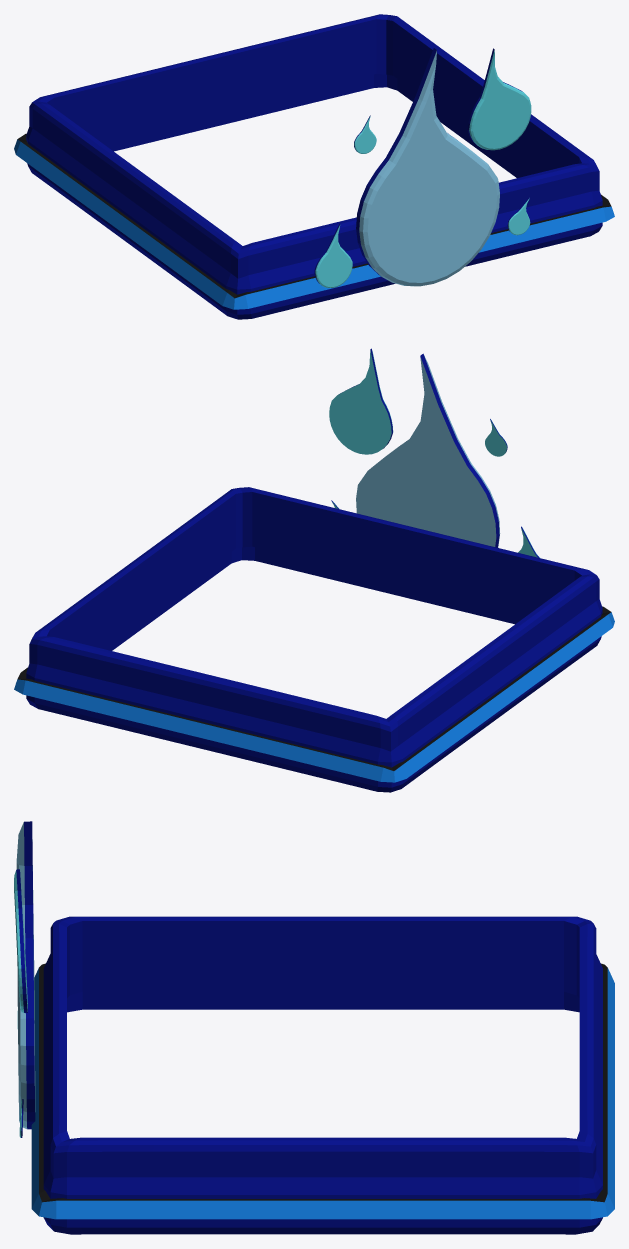
Rendered from CouronneEau 1.fbx.
The picture shows the model from 3 angles, top to bottom: view 1: azimuth 30°, elevation 25°; view 2: azimuth 150°, elevation 25°; view 3: azimuth 270°, elevation 25°; orthographic projection. The views are drawn at different scales.
Visible parts, largest first — view 1: CouronneEau; view 2: CouronneEau; view 3: CouronneEau.
Boxes of the visible parts, bbox=[...] form: CouronneEau: bbox=[14, 14, 614, 319]; CouronneEau: bbox=[14, 348, 614, 792]; CouronneEau: bbox=[14, 821, 614, 1234].
Bounding box in the file's own units: 216 × 124 × 223.
